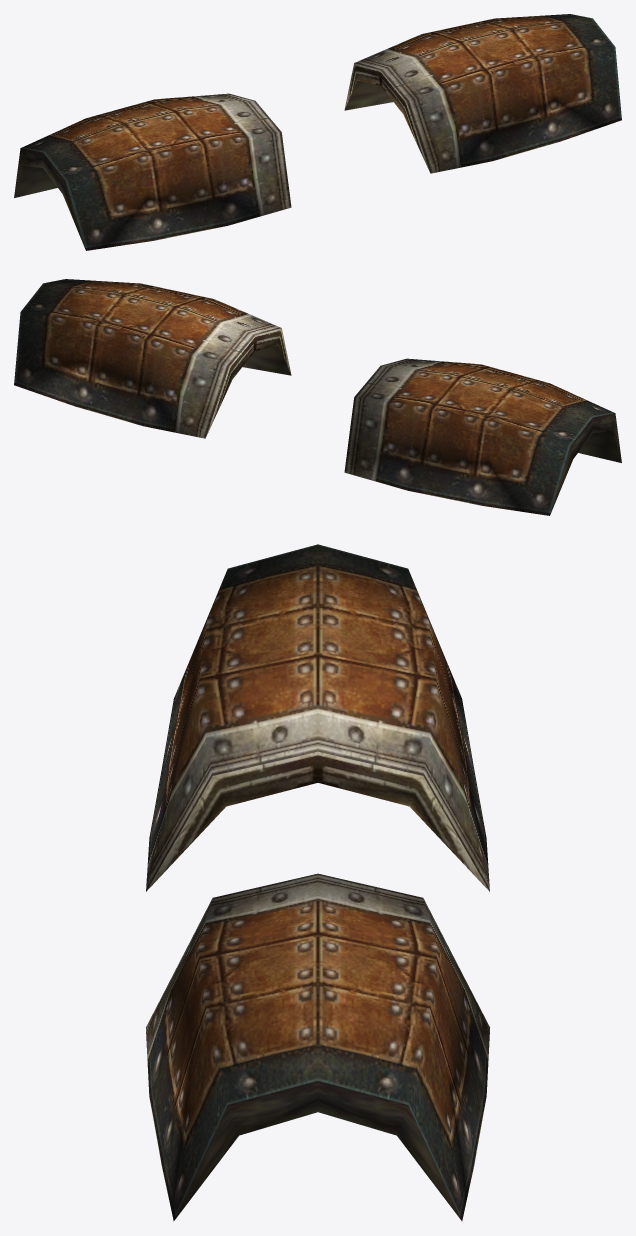
3 views of the same model, one above another, from view 1: azimuth 30°, elevation 25°; view 2: azimuth 150°, elevation 25°; view 3: azimuth 270°, elevation 25° (orthographic). The views are drawn at different scales.
Visible parts, largest first — view 1: heavy_01_sa; view 2: heavy_01_sa; view 3: heavy_01_sa.
Part boxes in pixels (left/top/right/bottom): heavy_01_sa: left=14, top=14, right=621, bottom=250; heavy_01_sa: left=14, top=279, right=621, bottom=515; heavy_01_sa: left=146, top=544, right=489, bottom=1221.
Bounding box in the file's own units: 0.6736 × 0.101 × 0.1827.
Materials: 1 (1 with a texture image).
